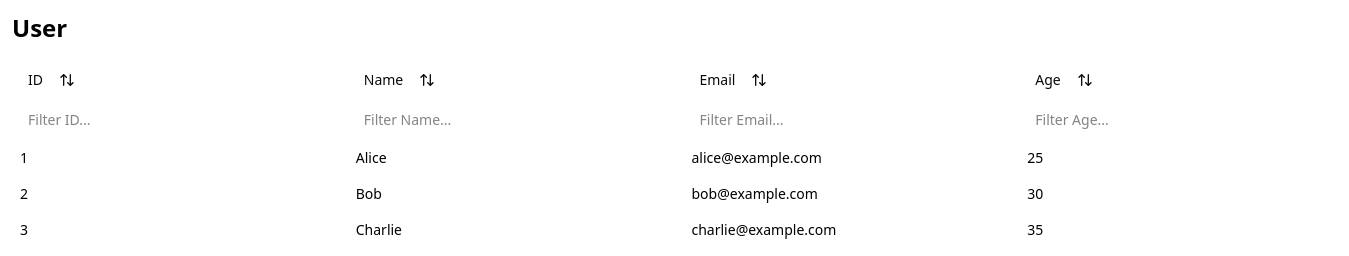
Test: ListView - Table Filtering › should display filtered result count - Requirement 36.3
The width and height of the screenshot is (1349, 256).
Filter by name
Step 1. Type "Alice" into the field with placeholder "Filter Name..." → {"x": 516, "y": 120}, box [356, 106, 676, 134]
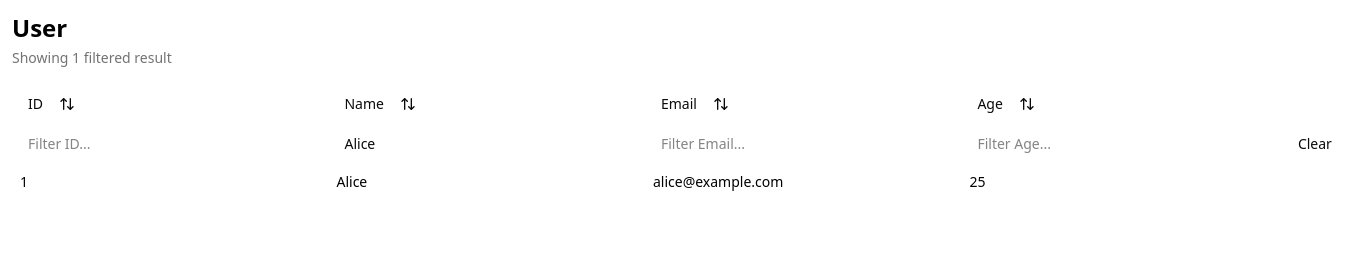
Check: the text "Showing 1 filtered result" is shown, box [12, 48, 172, 68]
